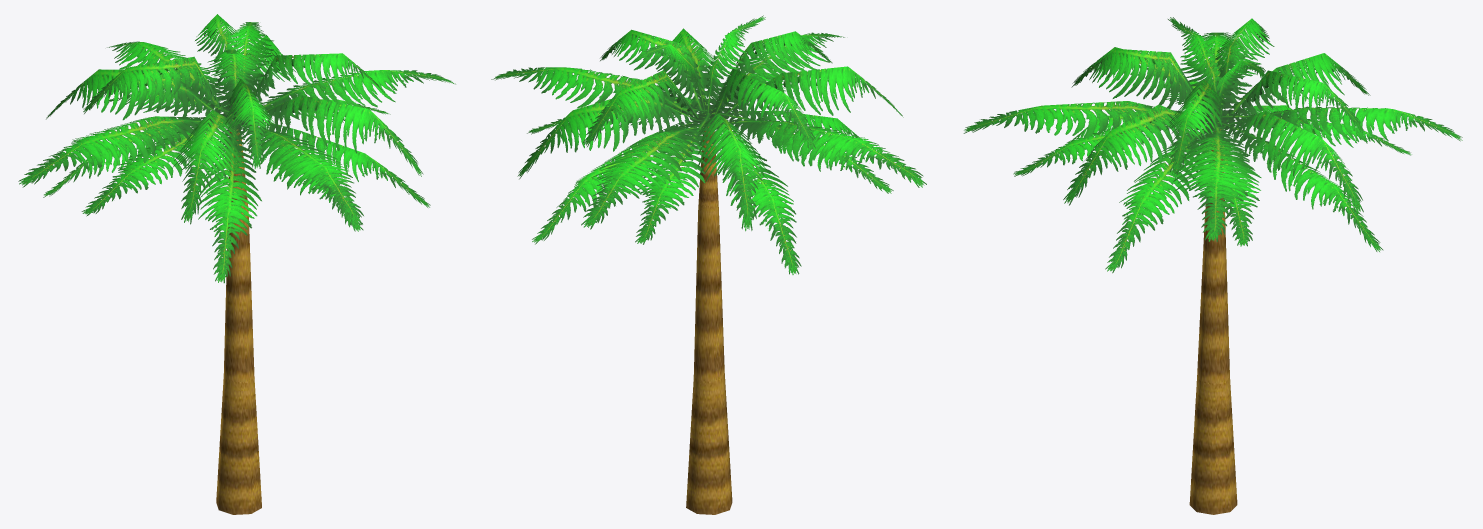
The model's file is palm03.obj.
3 views of the same model, side by side, from view 1: azimuth 30°, elevation 25°; view 2: azimuth 150°, elevation 25°; view 3: azimuth 270°, elevation 25° (orthographic).
Parts seen in each view (by area): view 1: Duplicate06, Duplicate05, Cylinder01, Duplicate11, Triangles, Duplicate04, Duplicate01, Duplicate02; view 2: Duplicate06, Duplicate05, Cylinder01, Duplicate11, Triangles, Duplicate04, Duplicate02, Duplicate01; view 3: Duplicate06, Duplicate05, Cylinder01, Duplicate11, Duplicate04, Duplicate02, Triangles, Duplicate01.
Boxes of the visible parts, box(x1,y1,x2,y2) form: Duplicate06: box(46, 35, 423, 231); Duplicate05: box(43, 41, 430, 283); Cylinder01: box(216, 129, 261, 514); Duplicate11: box(83, 14, 384, 168); Triangles: box(18, 116, 212, 187); Duplicate04: box(238, 70, 455, 123); Duplicate01: box(221, 22, 273, 110); Duplicate02: box(207, 48, 258, 120); Duplicate06: box(517, 28, 903, 244); Duplicate05: box(532, 32, 860, 274); Cylinder01: box(686, 127, 732, 514); Duplicate11: box(583, 29, 832, 149); Triangles: box(709, 119, 926, 187); Duplicate04: box(491, 67, 706, 122); Duplicate02: box(706, 15, 765, 115); Duplicate01: box(641, 44, 706, 114); Duplicate06: box(1013, 47, 1411, 246); Duplicate05: box(963, 101, 1462, 273); Cylinder01: box(1189, 129, 1237, 514); Duplicate11: box(1075, 18, 1364, 175); Duplicate04: box(1173, 128, 1259, 241); Duplicate02: box(1168, 17, 1221, 115); Triangles: box(1180, 32, 1261, 113); Duplicate01: box(1212, 60, 1266, 122).
Bounding box in the file's own units: 79.16 × 82.01 × 80.31.
